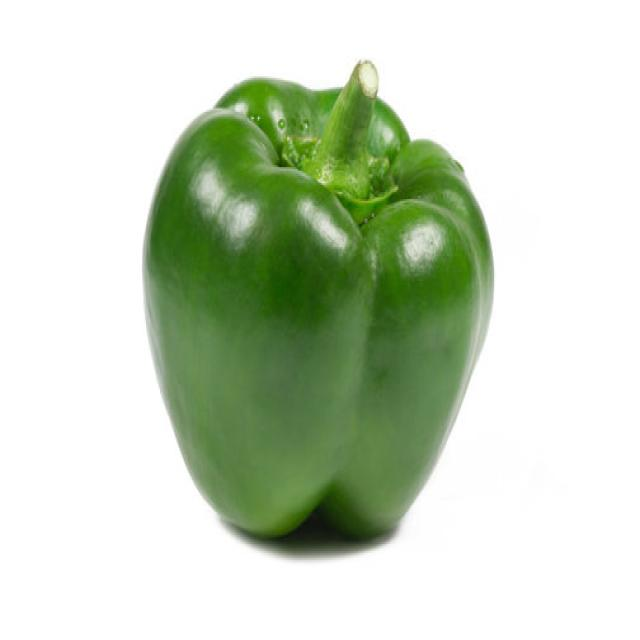Bell Pepper: (141, 57, 495, 542)
